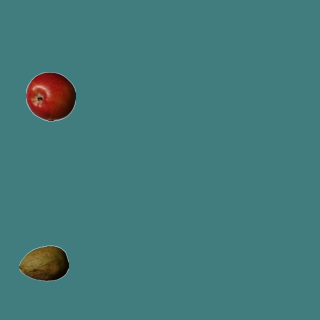Apple Braeburn: (25, 71, 75, 121)
Papaya: (18, 238, 68, 288)
